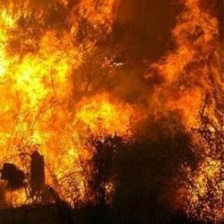fire: (1, 2, 122, 206), (155, 6, 224, 210)
